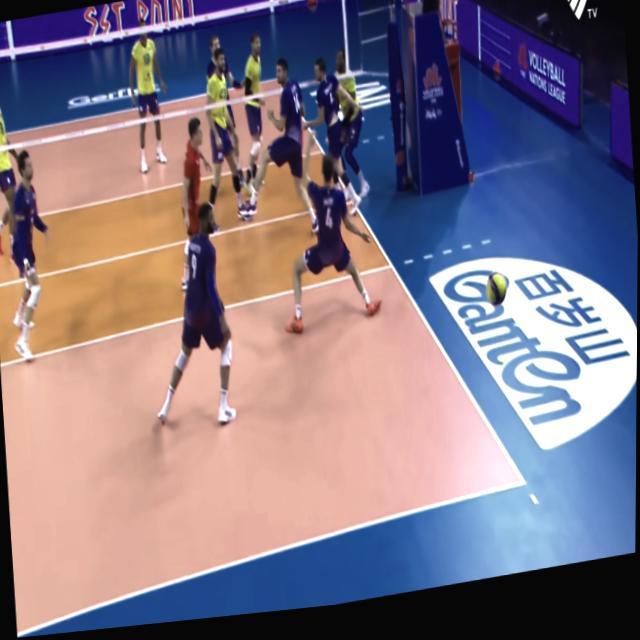player: (277, 134, 382, 345), (148, 203, 239, 438), (232, 62, 311, 241), (1, 143, 59, 364), (299, 58, 365, 225), (126, 18, 172, 182), (331, 41, 372, 217), (201, 52, 239, 212), (174, 118, 215, 262), (239, 38, 275, 181), (0, 71, 27, 260), (199, 37, 233, 104)
